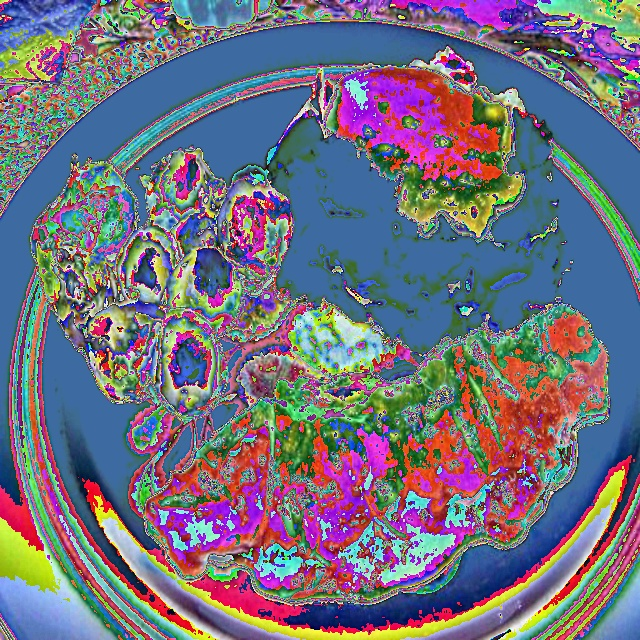background: (28, 42, 611, 603)
